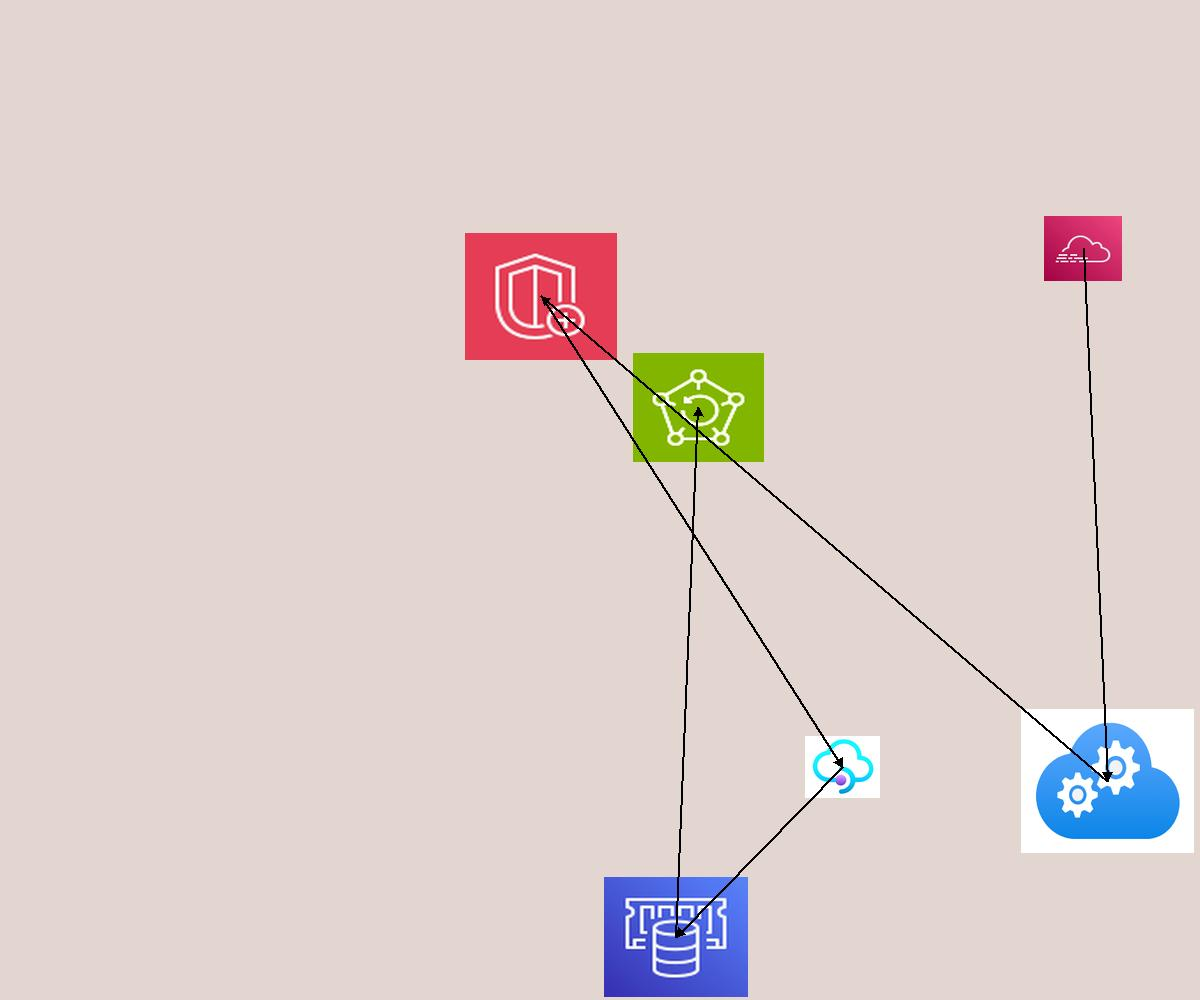AWS-Backup: (633, 353, 764, 462)
AWS-CloudTrail: (1044, 216, 1122, 281)
AWS-ElastiCache: (604, 877, 748, 997)
AWS-Shield: (465, 233, 617, 360)
Azure_api_gateway: (805, 736, 880, 798)
Azure_cloud_services: (1021, 709, 1194, 853)
